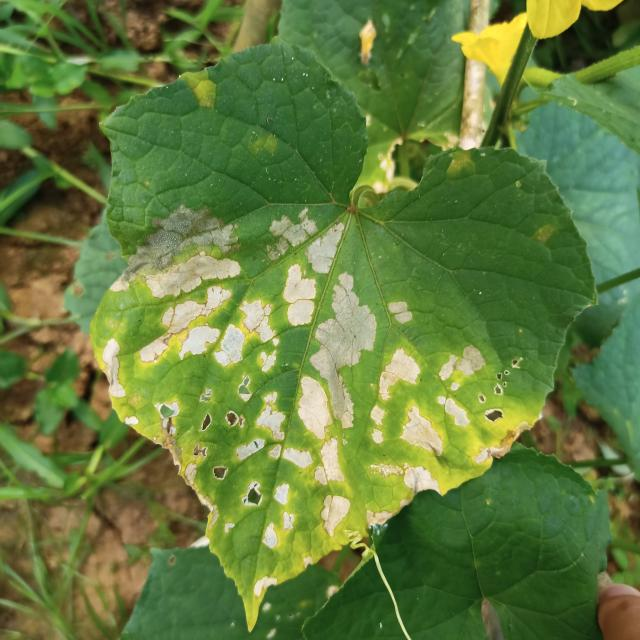disease_cucumber: (95, 193, 492, 587), (174, 65, 224, 115)
